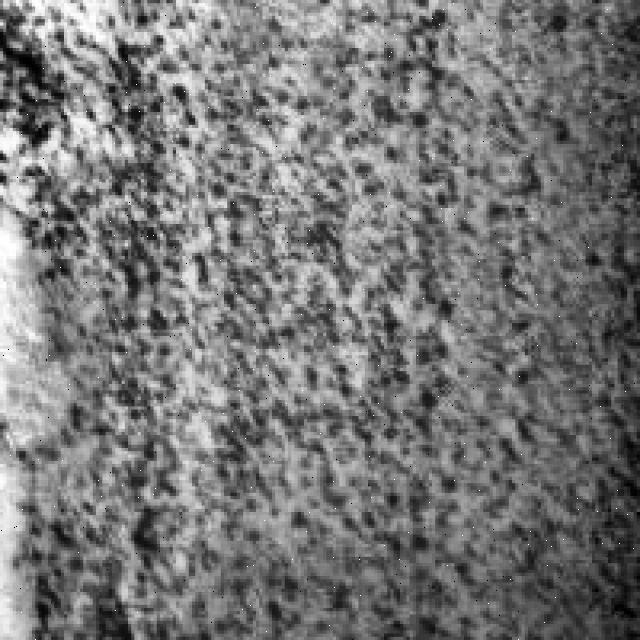Rolled_in_Scale: (9, 3, 612, 624)
